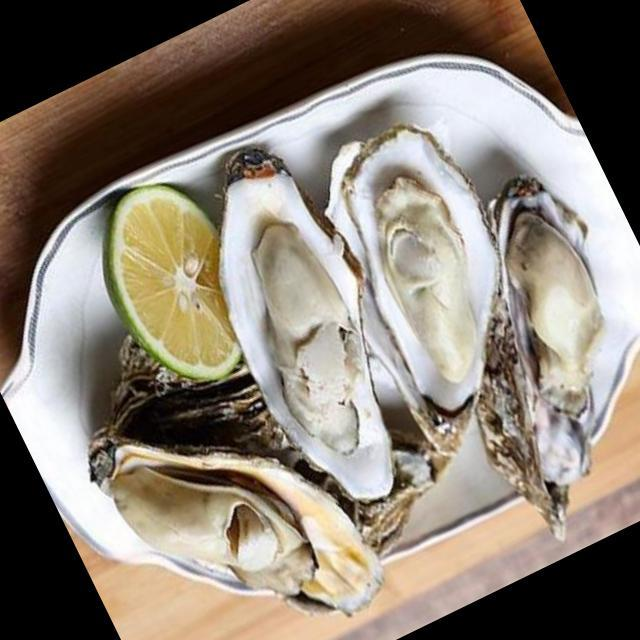Oyster- Indeterminate: (321, 410, 487, 569)
Oyster-Open: (157, 117, 460, 525), (273, 92, 582, 474), (377, 154, 640, 561), (83, 356, 399, 638)
